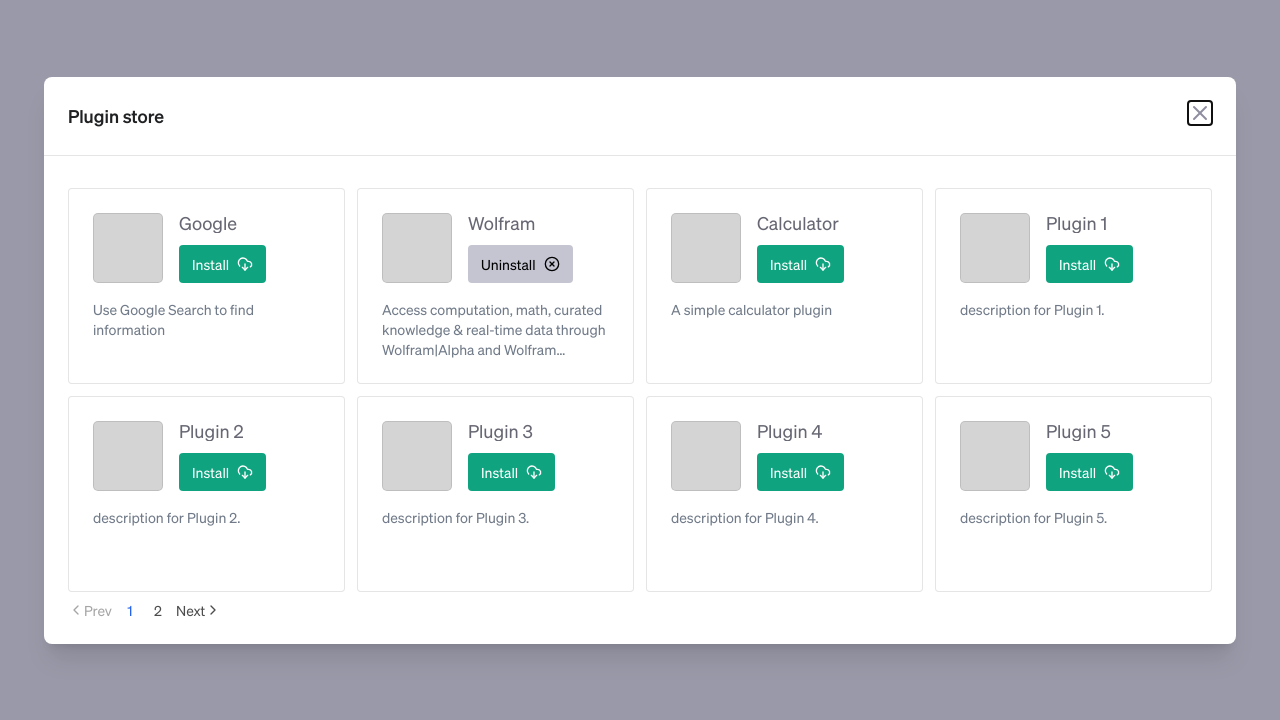
Test case: Displays the plugin auth form when installing a plugin with auth
Click the button with aria-label "Install Google" at [223, 264], box [179, 244, 266, 282]
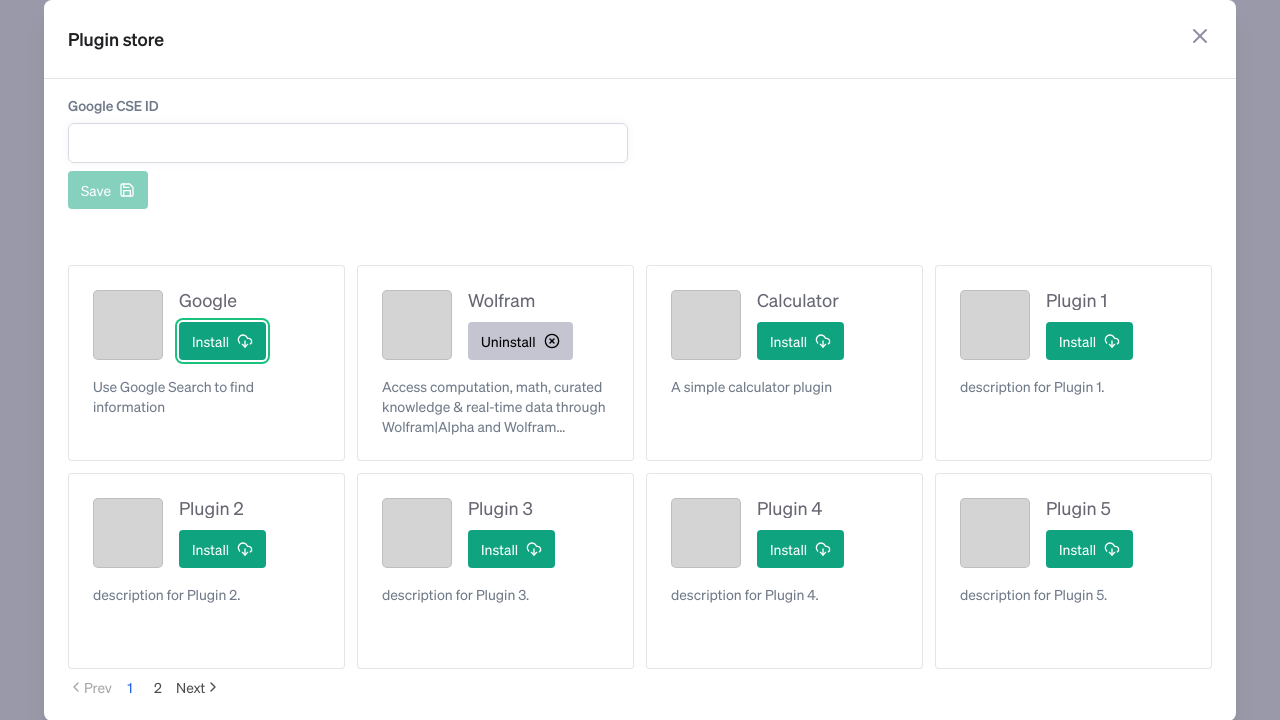
Expected: the text "Google CSE ID" is shown, [68, 96, 158, 114]
Expected: the button "Save" is shown, [68, 170, 148, 208]
